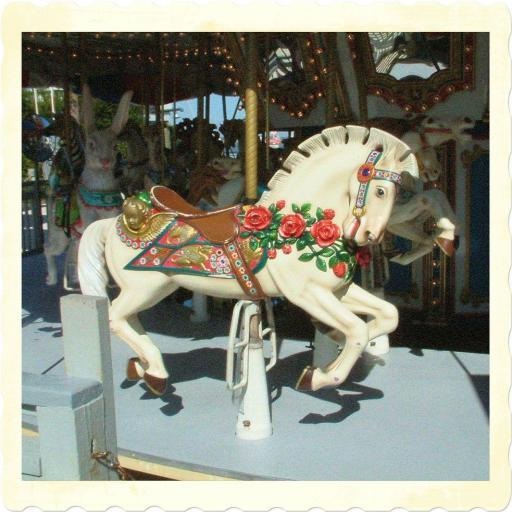Horse: (80, 124, 420, 399), (183, 112, 475, 270), (394, 148, 446, 262)
